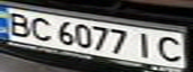0: (72, 21, 93, 50)
6: (51, 19, 75, 47)
7: (90, 24, 112, 53), (109, 26, 130, 56)
B: (3, 9, 36, 37)
C: (151, 34, 187, 64), (24, 15, 57, 43)
I: (130, 29, 160, 60)
